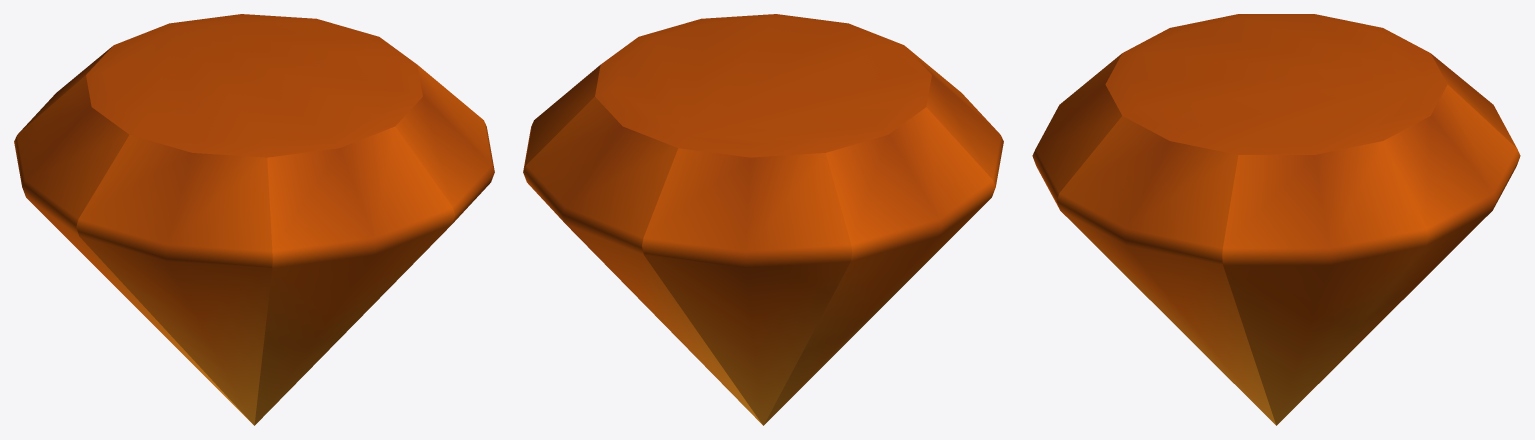
File: Diamond_V1_2.fbx
3 views of the same model, side by side, from view 1: azimuth 30°, elevation 25°; view 2: azimuth 150°, elevation 25°; view 3: azimuth 270°, elevation 25° (orthographic).
Visible parts, largest first — view 1: Diamond_V1_2; view 2: Diamond_V1_2; view 3: Diamond_V1_2.
Boxes of the visible parts, <box> form: Diamond_V1_2: <box>14,14,494,425</box>; Diamond_V1_2: <box>523,14,1003,425</box>; Diamond_V1_2: <box>1032,14,1520,425</box>.
Size of the model in its own units: 0.4202 by 0.337 by 0.431.
